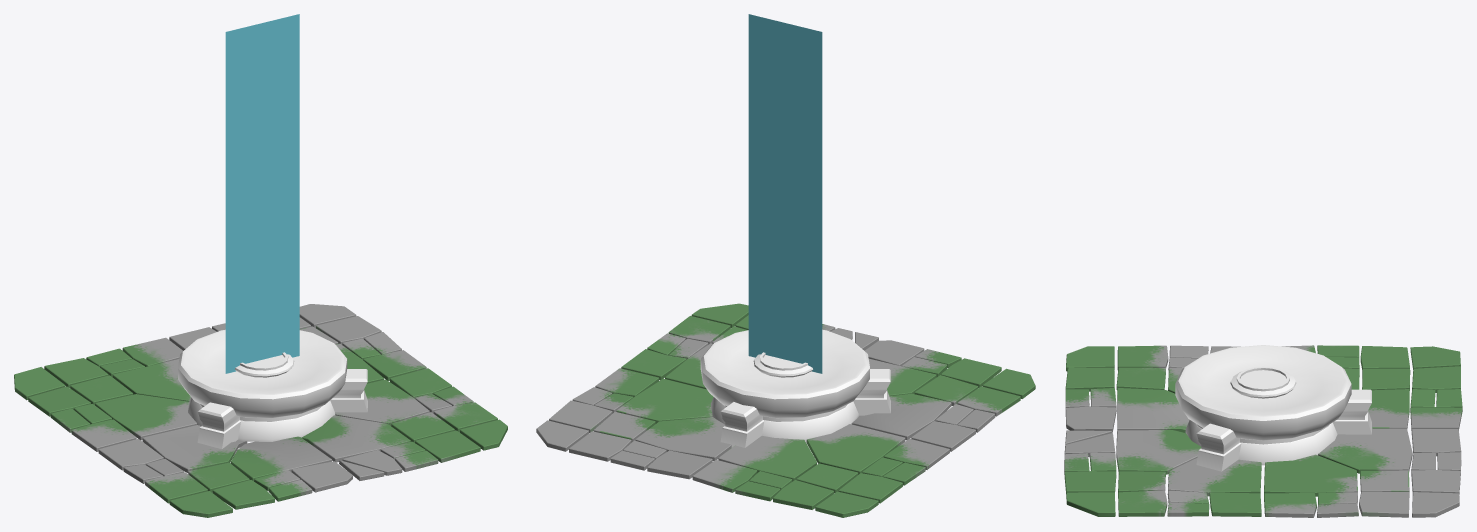
File: forest_assets.glb
The picture shows the model from 3 angles, left to right: view 1: azimuth 30°, elevation 25°; view 2: azimuth 150°, elevation 25°; view 3: azimuth 270°, elevation 25°; orthographic projection. The views are drawn at different scales.
Visible parts, largest first — view 1: Tiles, Fence, HologramBase; view 2: Tiles, Fence, HologramBase; view 3: Tiles, HologramBase.
Boxes of the visible parts, box(x1,y1,x2,y2) form: Tiles: box(14, 304, 507, 517); Fence: box(225, 14, 299, 373); HologramBase: box(178, 329, 367, 448); Tiles: box(536, 303, 1035, 517); Fence: box(748, 14, 822, 373); HologramBase: box(700, 329, 890, 447); Tiles: box(1064, 345, 1462, 517); HologramBase: box(1175, 345, 1372, 471).
Bounding box in the file's own units: 4.51 × 5.13 × 4.52.
4 materials, 1 textured.
